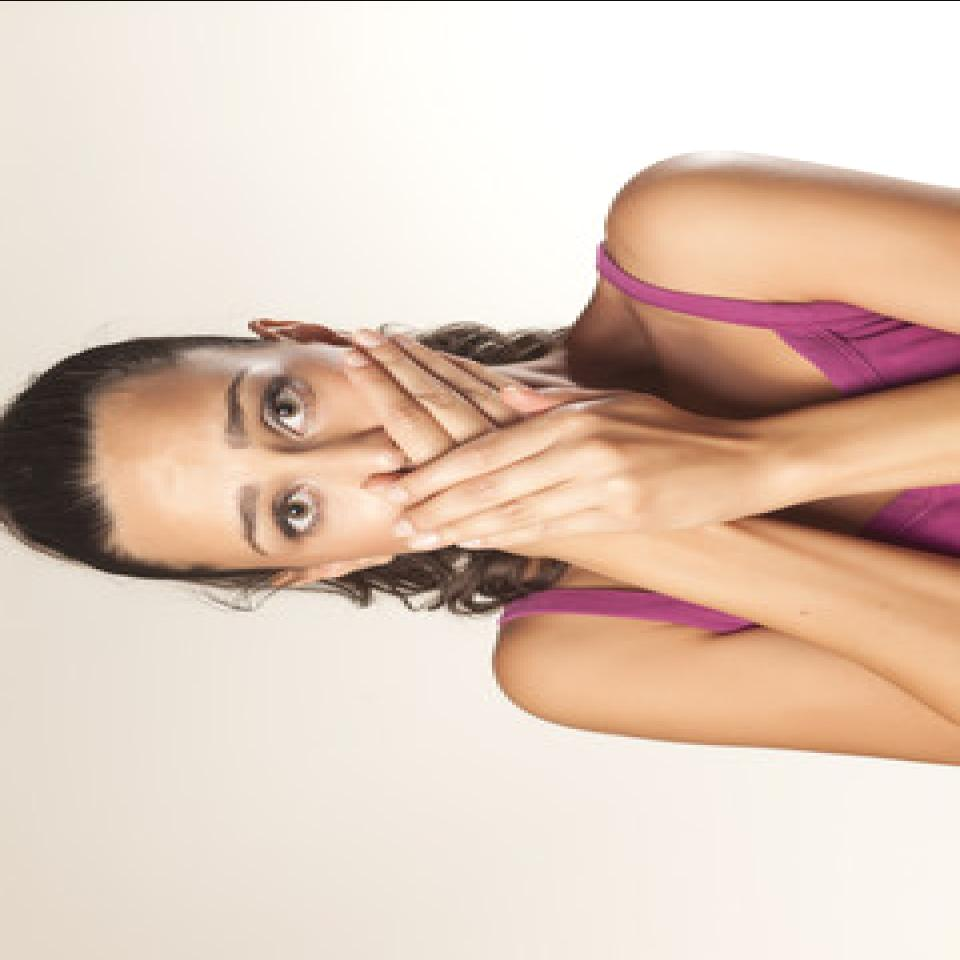Scared: (100, 344, 626, 560)
